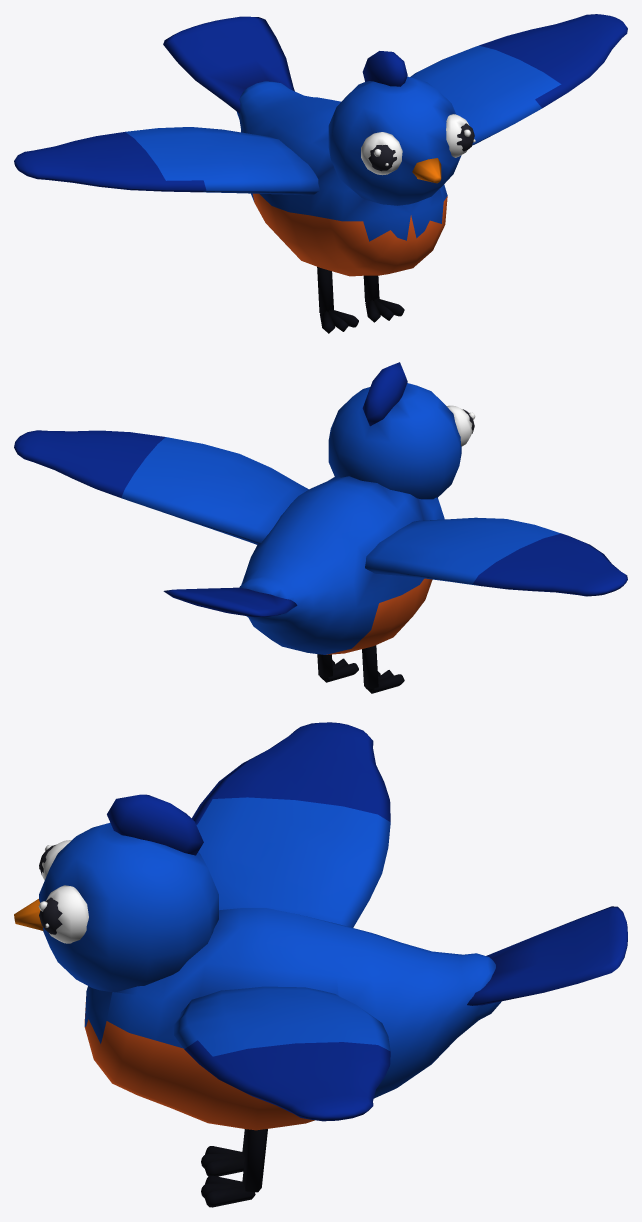
File: Bird.fbx
The picture shows the model from 3 angles, top to bottom: view 1: azimuth 30°, elevation 25°; view 2: azimuth 150°, elevation 25°; view 3: azimuth 270°, elevation 25°; orthographic projection. The views are drawn at different scales.
Parts seen in each view (by area): view 1: Bird, WingR, Head, WingL, Tail; view 2: Bird, WingL, WingR, Head, Tail; view 3: Bird, WingR, Head, WingL, Tail.
Part boxes in pixels (left/top/right/bottom): Bird: left=236, top=81, right=447, bottom=333; WingR: left=14, top=127, right=319, bottom=195; Head: left=328, top=51, right=475, bottom=205; WingL: left=410, top=14, right=627, bottom=145; Tail: left=163, top=16, right=294, bottom=113; Bird: left=239, top=476, right=444, bottom=693; WingL: left=14, top=430, right=308, bottom=544; WingR: left=365, top=517, right=627, bottom=596; Head: left=328, top=362, right=475, bottom=499; Tail: left=163, top=587, right=297, bottom=617; Bird: left=84, top=908, right=501, bottom=1207; WingR: left=191, top=722, right=390, bottom=927; Head: left=14, top=794, right=218, bottom=992; WingL: left=173, top=986, right=390, bottom=1121; Tail: left=467, top=906, right=627, bottom=1005.
Size of the model in its own units: 0.5307 by 0.2452 by 0.3499.
